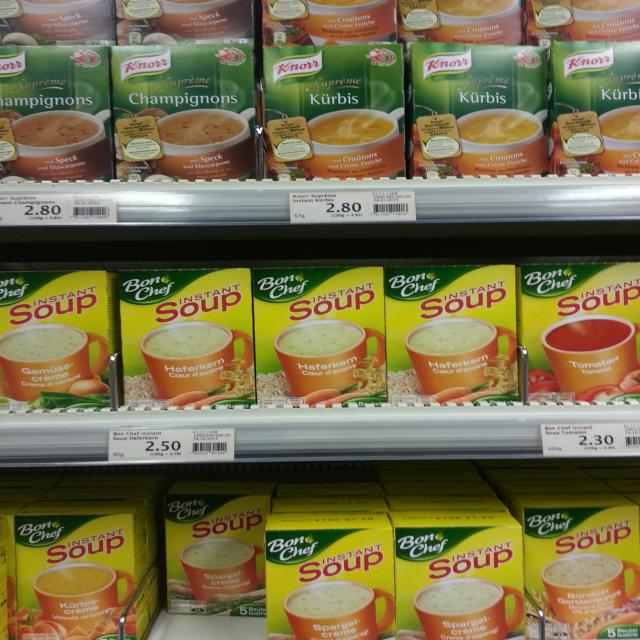Soups: (108, 47, 260, 182), (381, 264, 525, 403), (511, 490, 640, 640), (252, 262, 386, 405), (121, 266, 258, 405), (262, 46, 403, 180), (20, 504, 156, 640), (412, 42, 548, 176), (520, 259, 640, 410), (0, 266, 118, 417), (392, 511, 528, 640), (262, 513, 397, 638), (152, 484, 276, 616), (0, 48, 115, 183), (547, 43, 640, 177)
